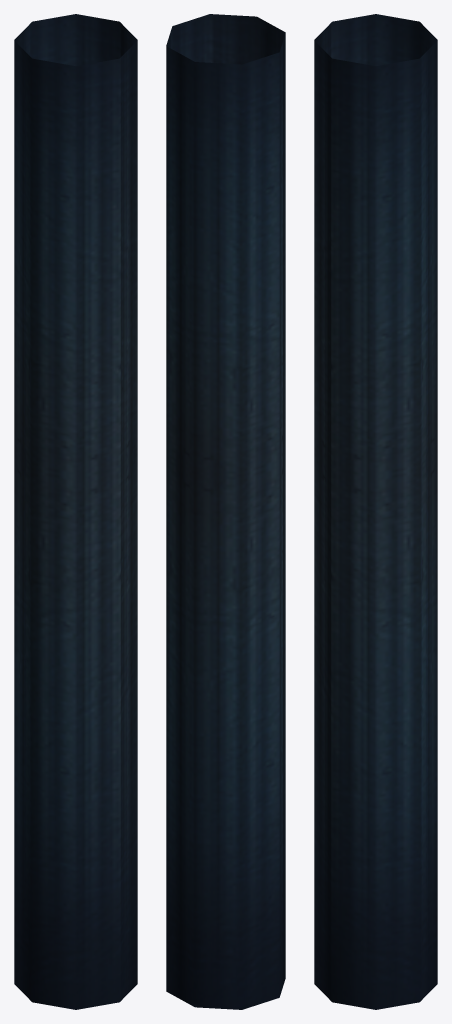
Rendered from kaitoudonghuazhuzi01.FBX.
3 views of the same model, side by side, from view 1: azimuth 90°, elevation 25°; view 2: azimuth 150°, elevation 25°; view 3: azimuth 270°, elevation 25° (orthographic).
Parts seen in each view (by area): view 1: 对象001; view 2: 对象001; view 3: 对象001.
Boxes of the visible parts, left/top/right/bottom form: 对象001: left=14, top=14, right=137, bottom=1009; 对象001: left=166, top=14, right=285, bottom=1009; 对象001: left=314, top=14, right=437, bottom=1009.
Size of the model in its own units: 68.24 by 575 by 68.24.
